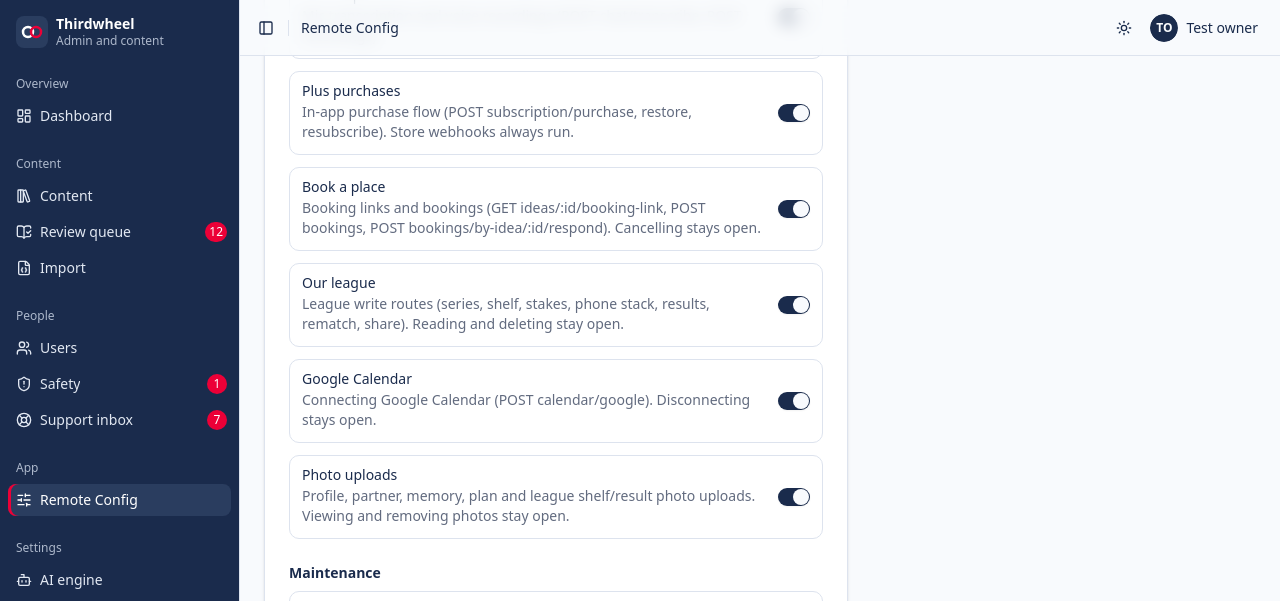
Remote Config page (mock API, reconciled with v2.0.0) › INVALID_CONFIG from the server lists each problem
This screenshot has width=1280, height=601.
(page scrolled)
Click the 4th switch named "Google Calendar": (794, 401) [778,392,810,410]
(page scrolled)
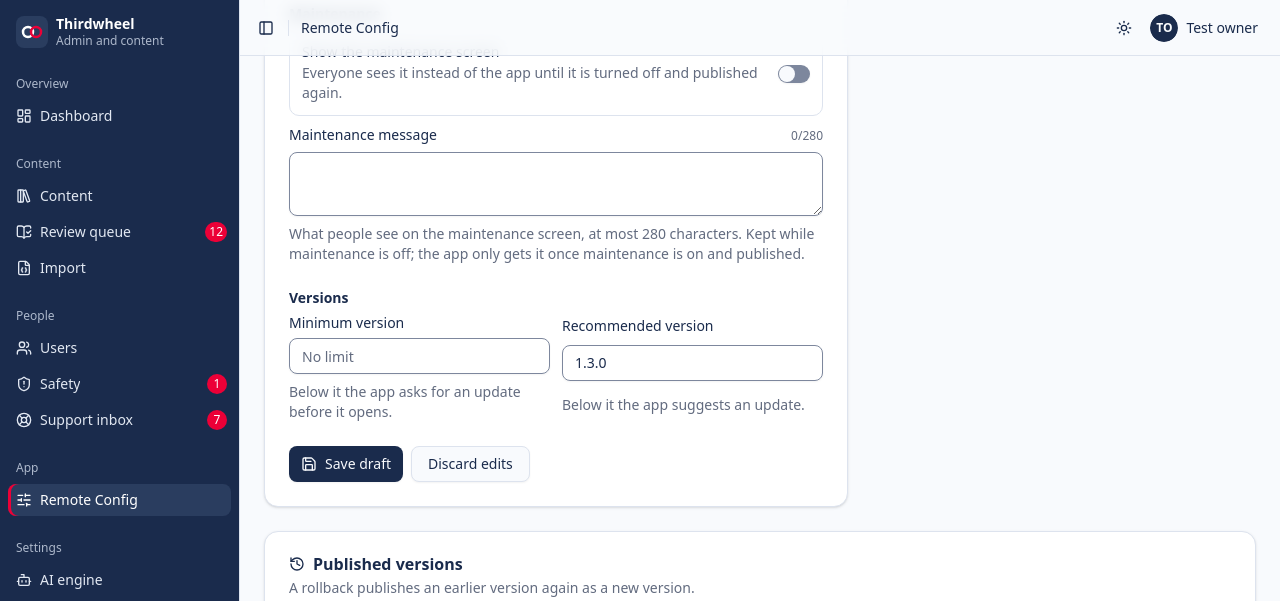
Click the button "Save draft": (346, 464) [289,446,403,482]
(page scrolled)
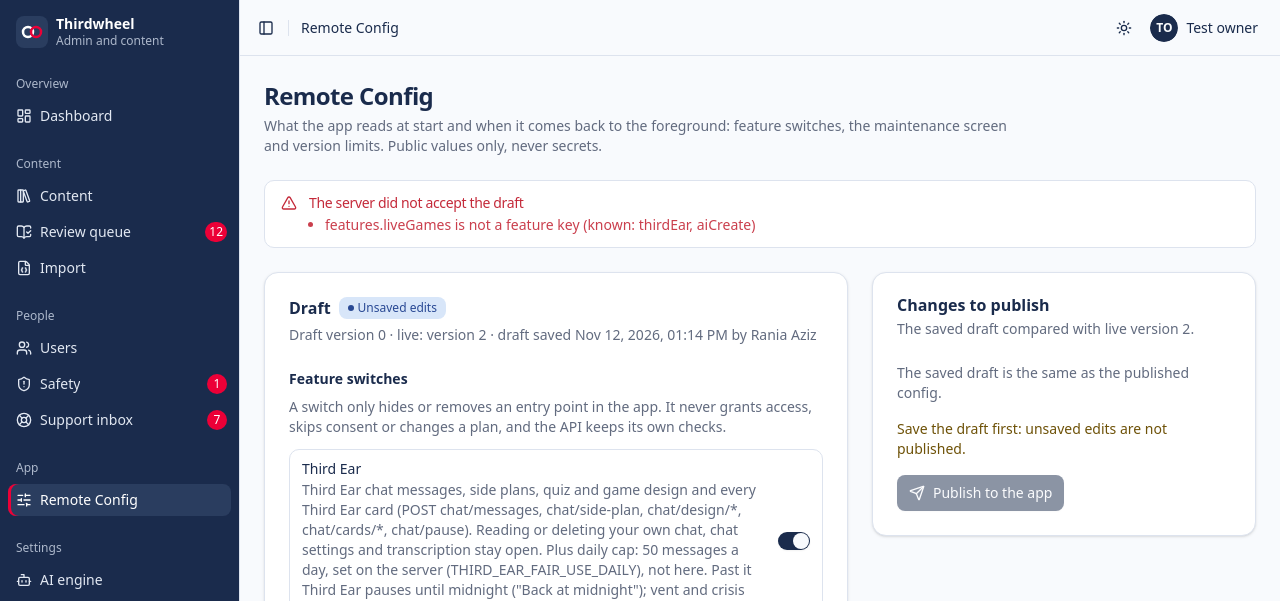
Expected: the text "The server did not accept the draft" is shown, [309,193,523,212]
Expected: the list item "features.liveGames is not a feature key (known: thirdEar, aiCreate)" is shown, [325,215,756,235]
